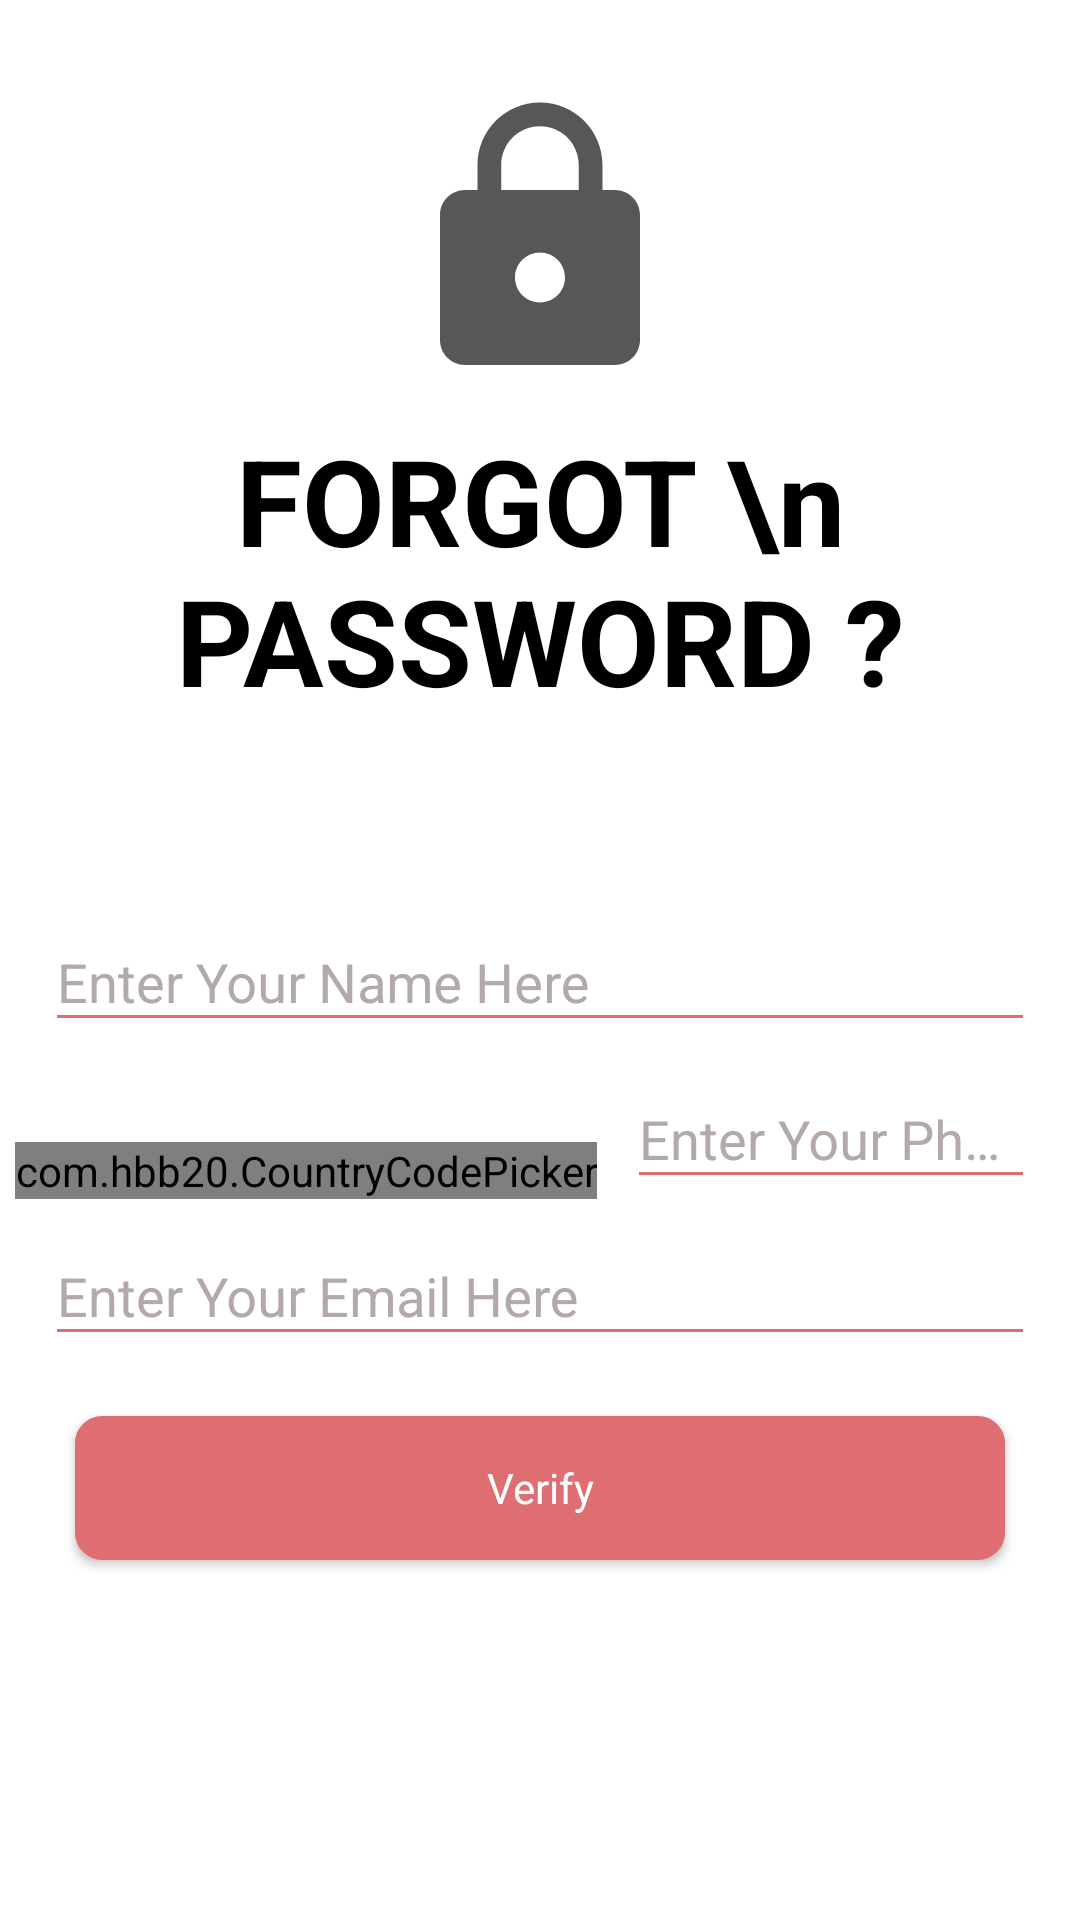

Icon bounding boxes for this 1080w x 1920h phone screenshot, format (x1, y1, x2, y2):
lock closed: (440, 102, 640, 365)
